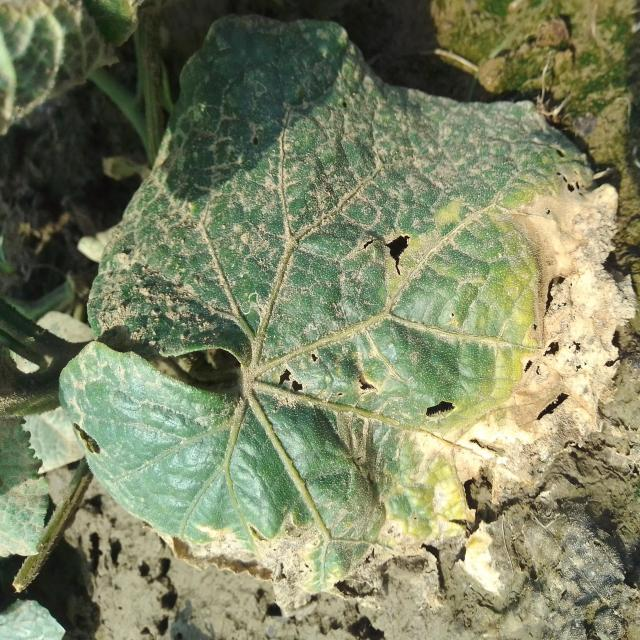cucumber_gummy: (55, 0, 640, 596)
